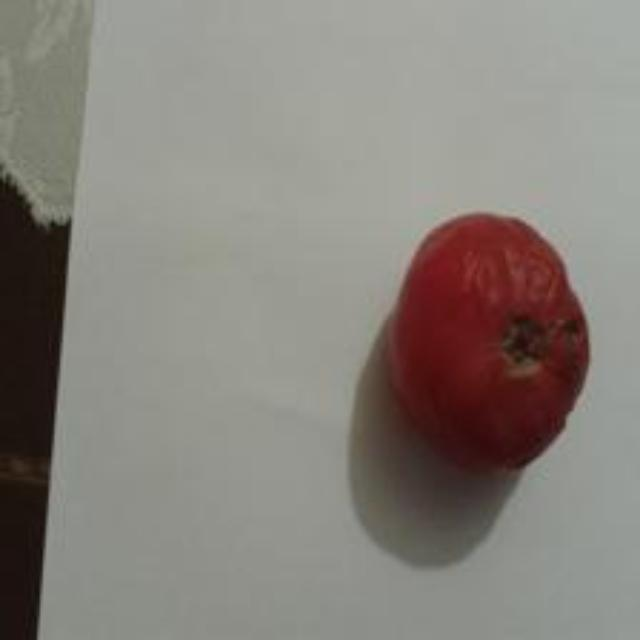defect: (386, 210, 592, 476)
